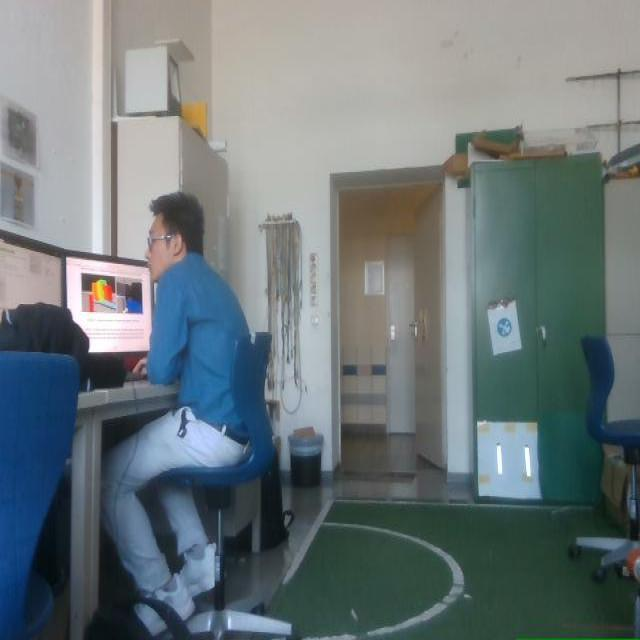humans: (102, 192, 248, 618)
objects: (158, 334, 291, 638), (0, 352, 78, 638), (159, 334, 274, 491), (569, 336, 639, 581), (0, 303, 125, 389), (64, 252, 152, 374), (0, 303, 105, 390), (0, 303, 88, 387), (84, 596, 191, 639), (259, 451, 293, 550), (260, 451, 293, 550), (87, 354, 126, 389)
